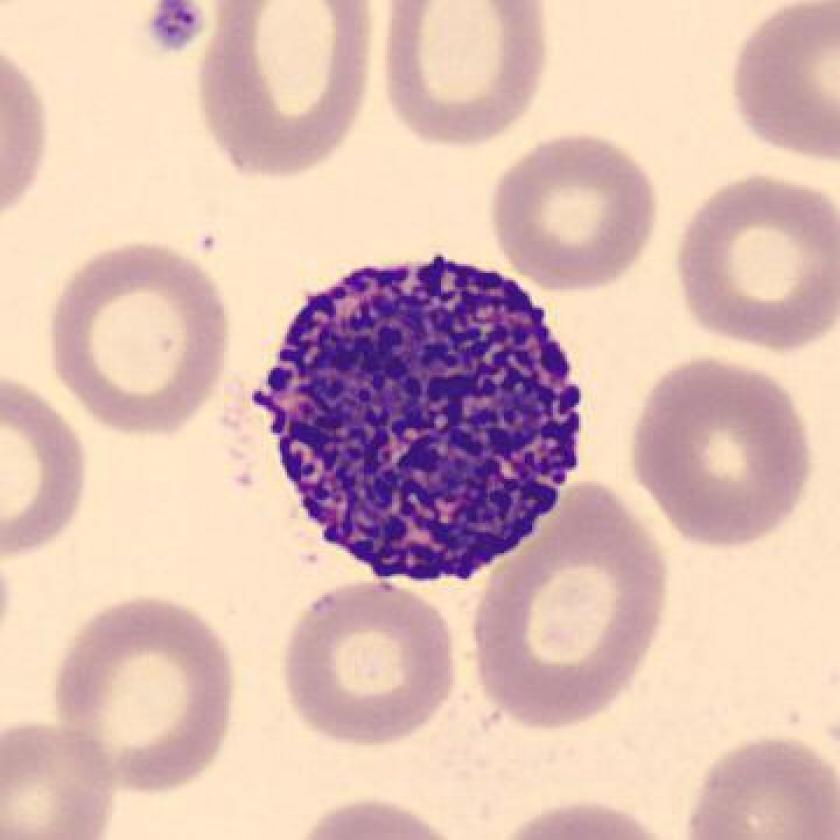basophil: (258, 251, 587, 584)
